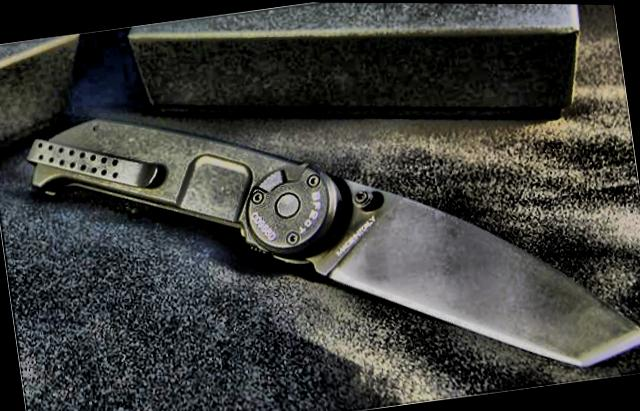knife: (289, 134, 640, 411)
